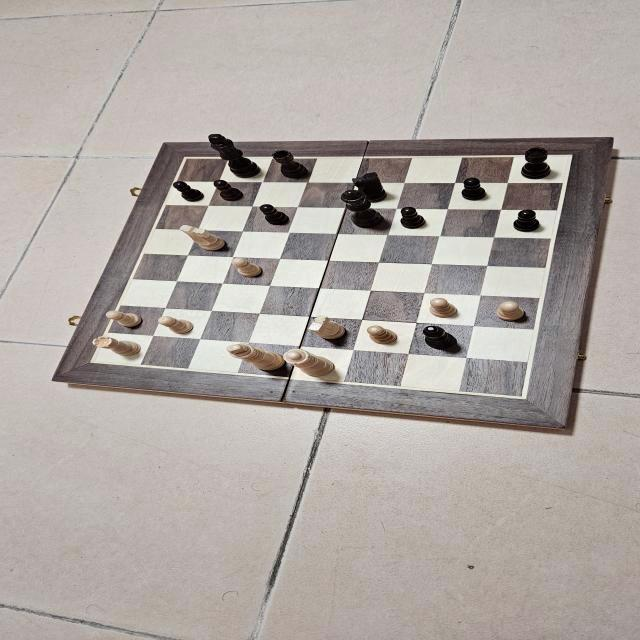chess-table-corners: (512, 391, 535, 404), (84, 356, 108, 364), (561, 152, 582, 160), (178, 154, 194, 162)
